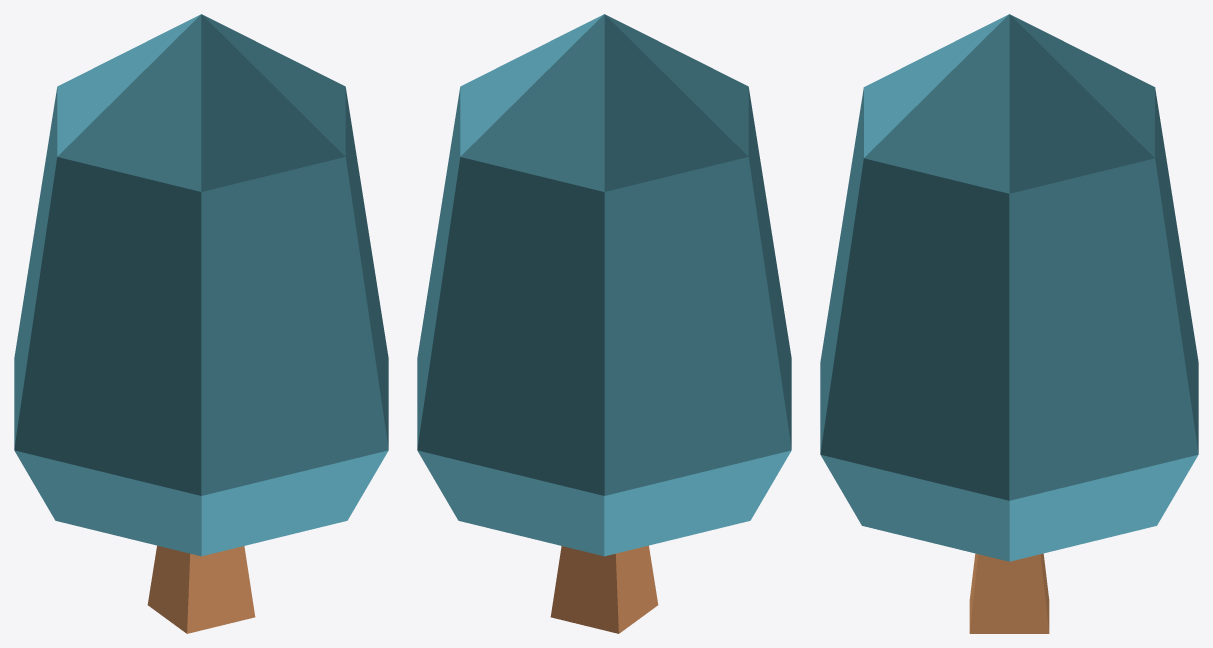
File: tree_short_dark.obj
3 renders of one model, left to right at view 1: azimuth 30°, elevation 25°; view 2: azimuth 150°, elevation 25°; view 3: azimuth 270°, elevation 25°, orthographic.
Visible parts, largest first — view 1: tree_short_dark; view 2: tree_short_dark; view 3: tree_short_dark.
Part boxes in pixels (x1,y1,x2,y2): tree_short_dark: (14,14,388,633); tree_short_dark: (417,14,791,633); tree_short_dark: (820,14,1198,633).
Bounding box in the file's own units: 7.55 × 11.5 × 6.54.
